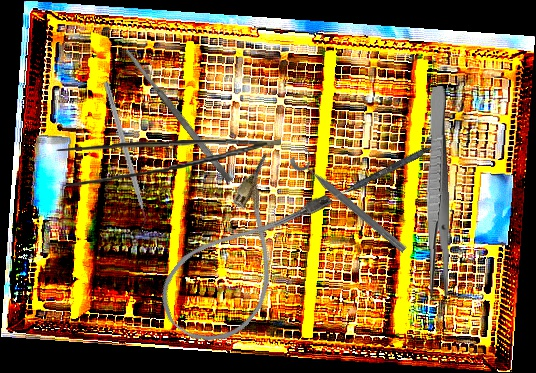Cannula: (146, 148, 339, 361)
Chopper: (95, 80, 152, 234)
Dressing Forceps: (424, 86, 451, 298)
Fixation Ring: (287, 144, 416, 257)
Spatula Surgical: (123, 46, 234, 185), (320, 133, 451, 209)
Tissue Forceps: (56, 138, 282, 187)
